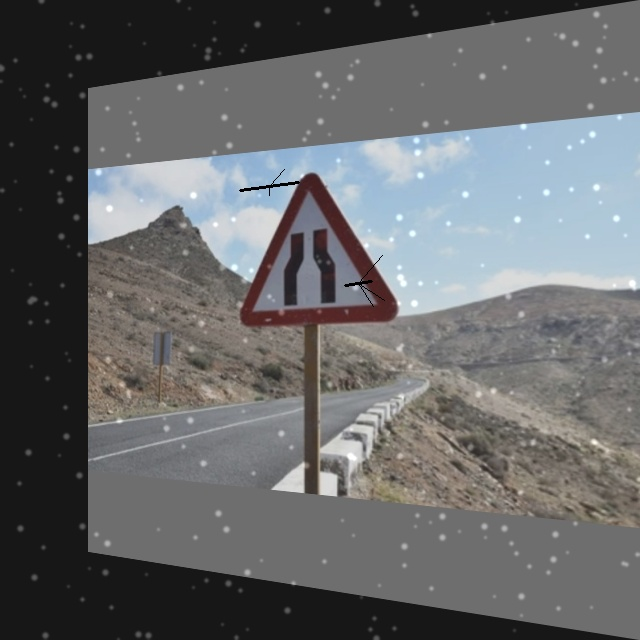Narrow_Road_Ahead: (236, 167, 398, 328)
